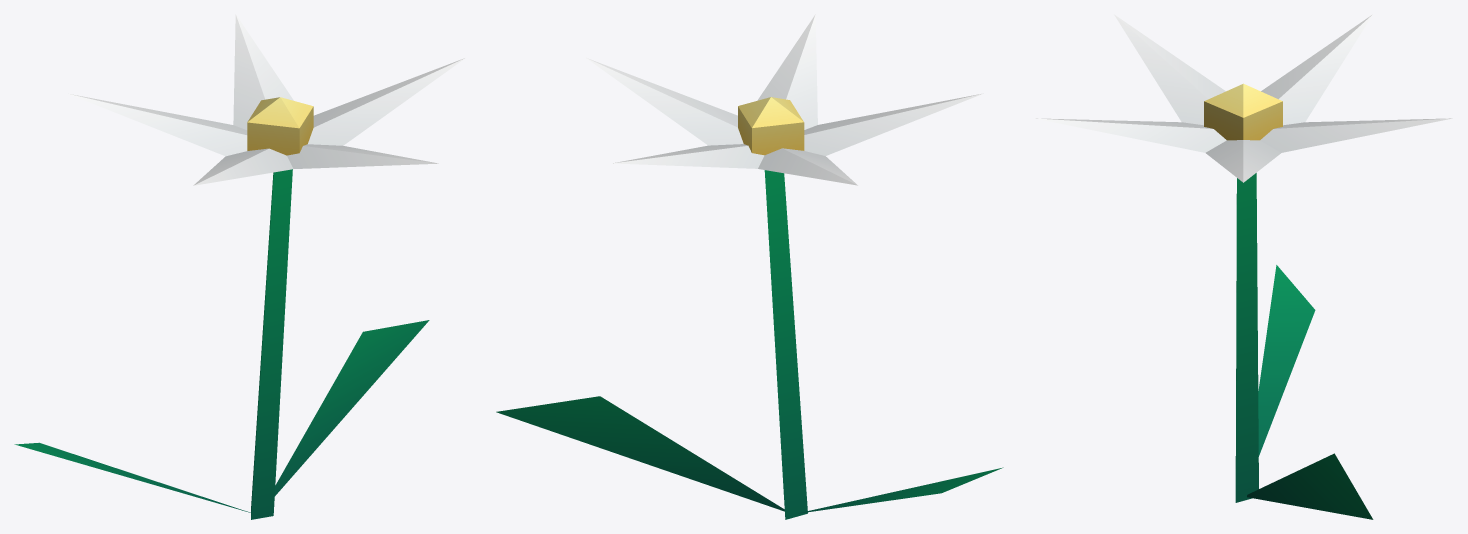
The model's file is star_lily.glb.
3 renders of one model, left to right at view 1: azimuth 30°, elevation 25°; view 2: azimuth 150°, elevation 25°; view 3: azimuth 270°, elevation 25°, orthographic. The views are drawn at different scales.
Parts seen in each view (by area): view 1: star_lily; view 2: star_lily; view 3: star_lily.
Boxes of the visible parts, left/top/right/bottom form: star_lily: left=14, top=14, right=465, bottom=519; star_lily: left=496, top=14, right=1003, bottom=519; star_lily: left=1034, top=14, right=1452, bottom=519.
Bounding box in the file's own units: 0.4224 × 0.3607 × 0.3234.
1 material, 1 textured.
